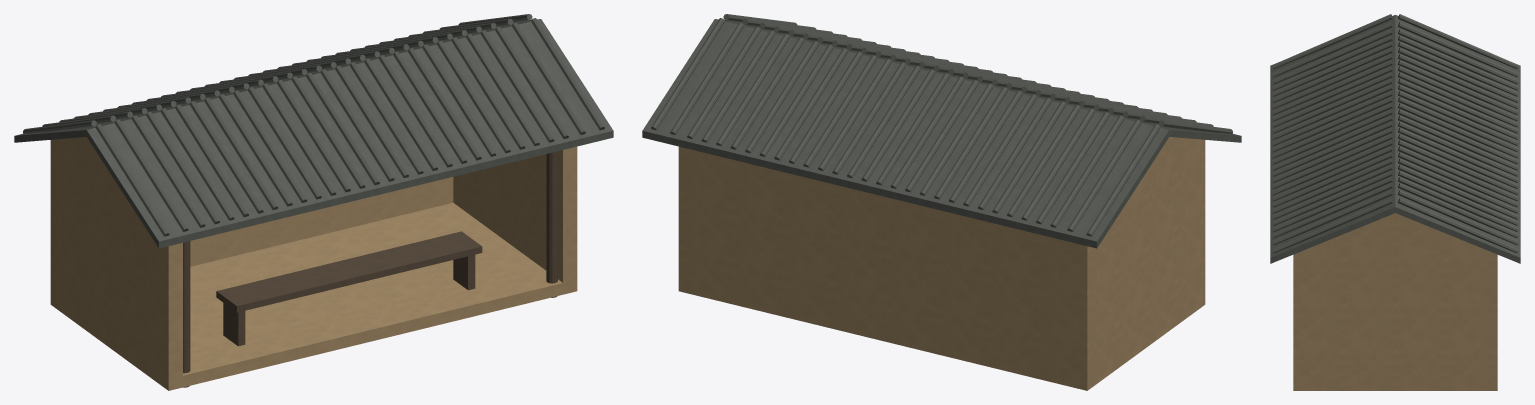
File: L04-static-node-trs.glb
3 views of the same model, side by side, from view 1: azimuth 30°, elevation 25°; view 2: azimuth 150°, elevation 25°; view 3: azimuth 270°, elevation 25° (orthographic). The views are drawn at different scales.
Visible parts, largest first — view 1: S84-static-LY_P01_tile__PBR, S84-static-LY_P01_earth__PBR, S84-static-LY_P01_timber__PBR; view 2: S84-static-LY_P01_earth__PBR, S84-static-LY_P01_tile__PBR; view 3: S84-static-LY_P01_tile__PBR, S84-static-LY_P01_earth__PBR.
Part boxes in pixels (<box>): S84-static-LY_P01_tile__PBR: <box>14,14,613,248</box>; S84-static-LY_P01_earth__PBR: <box>50,137,577,390</box>; S84-static-LY_P01_timber__PBR: <box>183,151,557,387</box>; S84-static-LY_P01_earth__PBR: <box>678,137,1205,390</box>; S84-static-LY_P01_tile__PBR: <box>642,14,1241,248</box>; S84-static-LY_P01_tile__PBR: <box>1270,14,1520,263</box>; S84-static-LY_P01_earth__PBR: <box>1293,213,1497,390</box>.
Bounding box in the file's own units: 8.9 × 4.33 × 4.9.
Materials: 3 (3 with a texture image).
